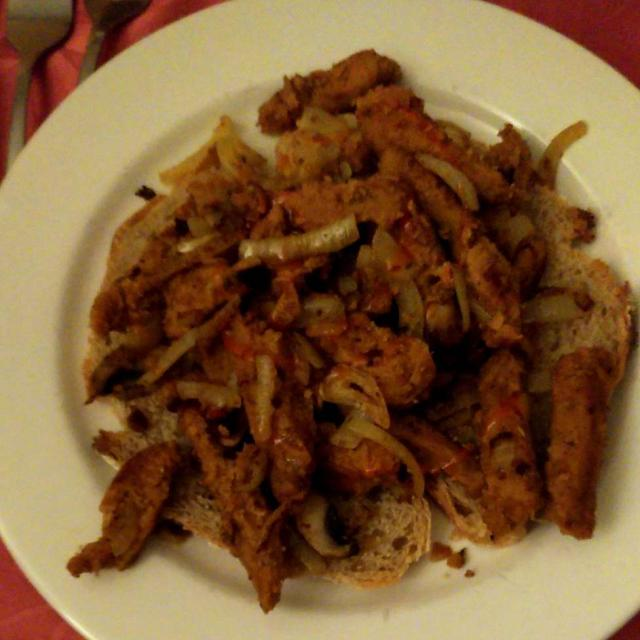bread-whole-wheat: (170, 204, 635, 577)
tofu: (82, 61, 627, 586)
